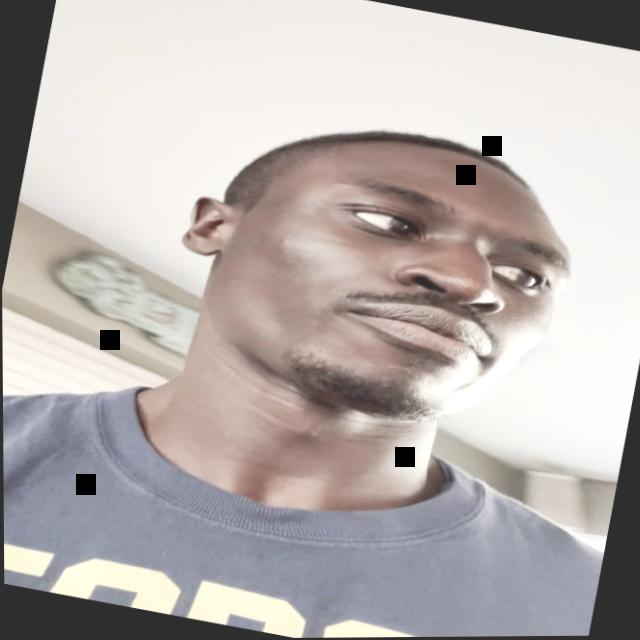NO-Mask: (170, 104, 603, 471)
